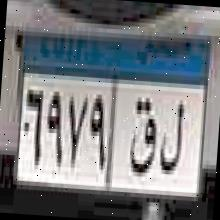6: (21, 81, 47, 169)
7: (64, 88, 89, 173)
9: (42, 84, 68, 173), (85, 91, 111, 179)
laam: (157, 94, 188, 180)
qaaf: (126, 92, 160, 182)
